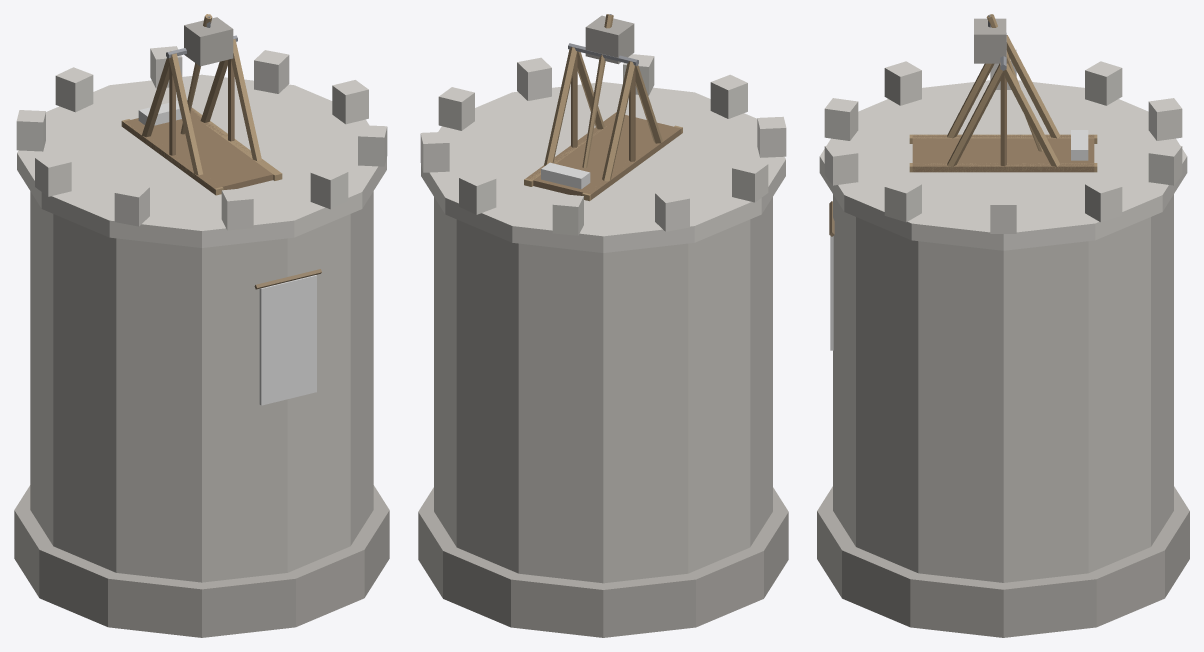
3 views of the same model, side by side, from view 1: azimuth 30°, elevation 25°; view 2: azimuth 150°, elevation 25°; view 3: azimuth 270°, elevation 25° (orthographic).
Visible parts, largest first — view 1: body; view 2: body; view 3: body.
Part boxes in pixels (x1,y1,x2,y2): body: (14, 14, 389, 637); body: (418, 14, 788, 637); body: (817, 14, 1189, 637).
Bounding box in the file's own units: 7 × 11.28 × 7.
